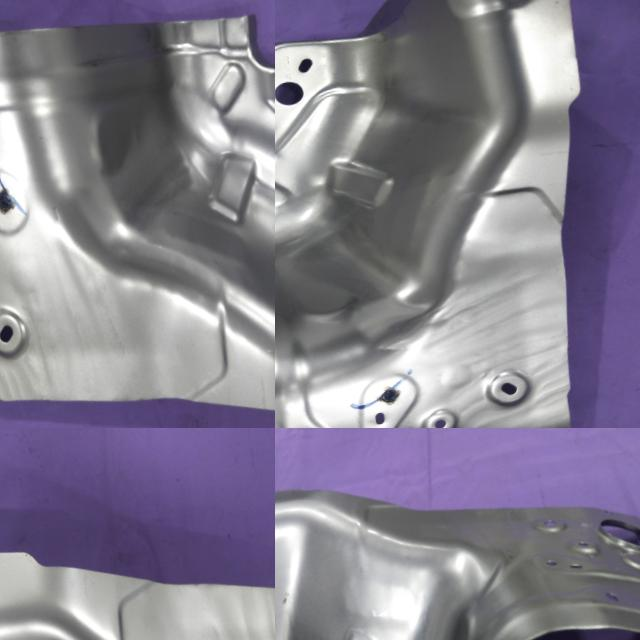Defect: (496, 628, 525, 640)
Healthy: (275, 0, 640, 428), (0, 0, 275, 428), (0, 478, 275, 640)
